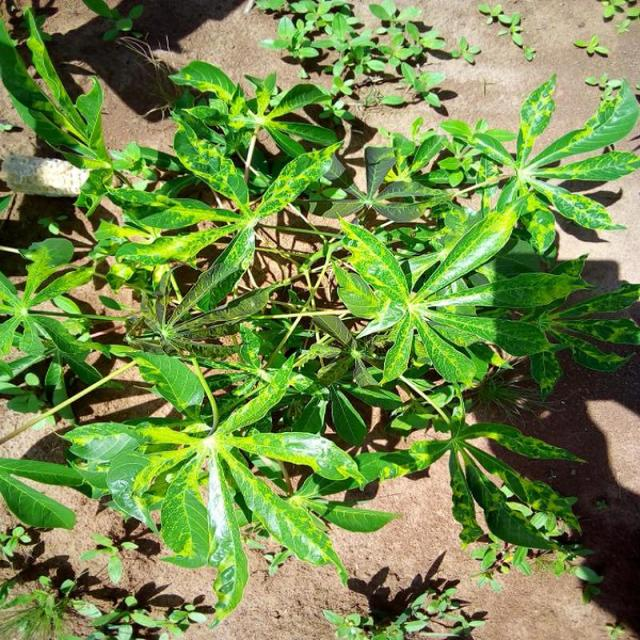cassava leaf: (2, 4, 640, 628), (61, 344, 370, 628)
